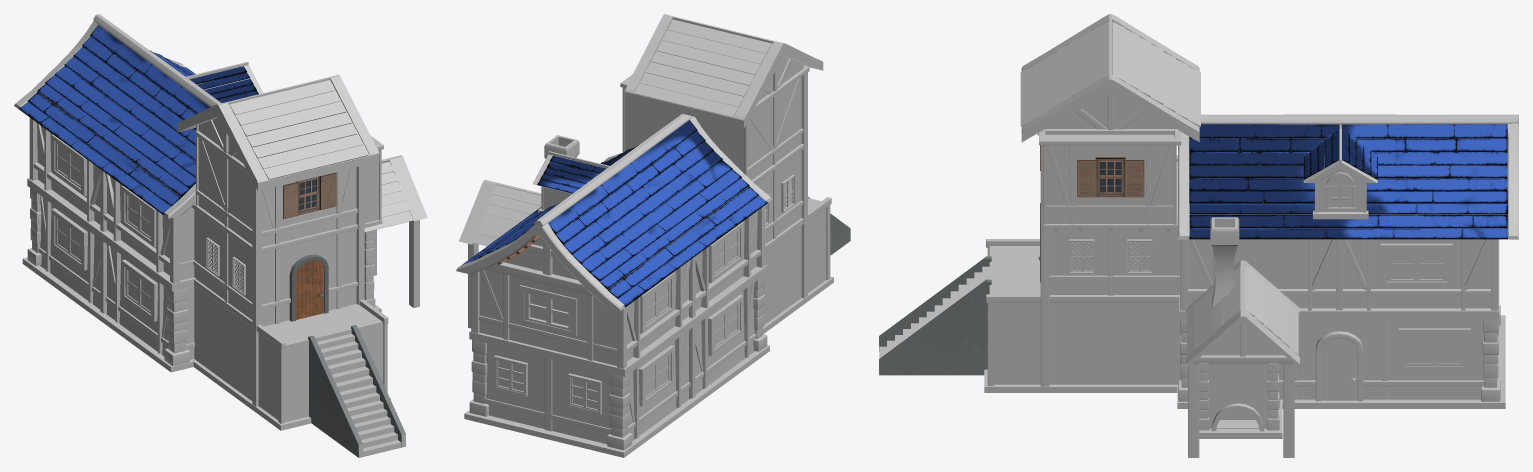
File: House02_Low.fbx
3 renders of one model, left to right at view 1: azimuth 30°, elevation 25°; view 2: azimuth 150°, elevation 25°; view 3: azimuth 270°, elevation 25°, orthographic. The views are drawn at different scales.
Parts seen in each view (by area): view 1: House02_Low; view 2: House02_Low; view 3: House02_Low.
Boxes of the visible parts, x1=… form: House02_Low: x1=14, y1=14, x2=427, y2=457; House02_Low: x1=456, y1=14, x2=850, y2=457; House02_Low: x1=879, y1=14, x2=1518, y2=457.
Bounding box in the file's own units: 1163 × 1204 × 2207.
